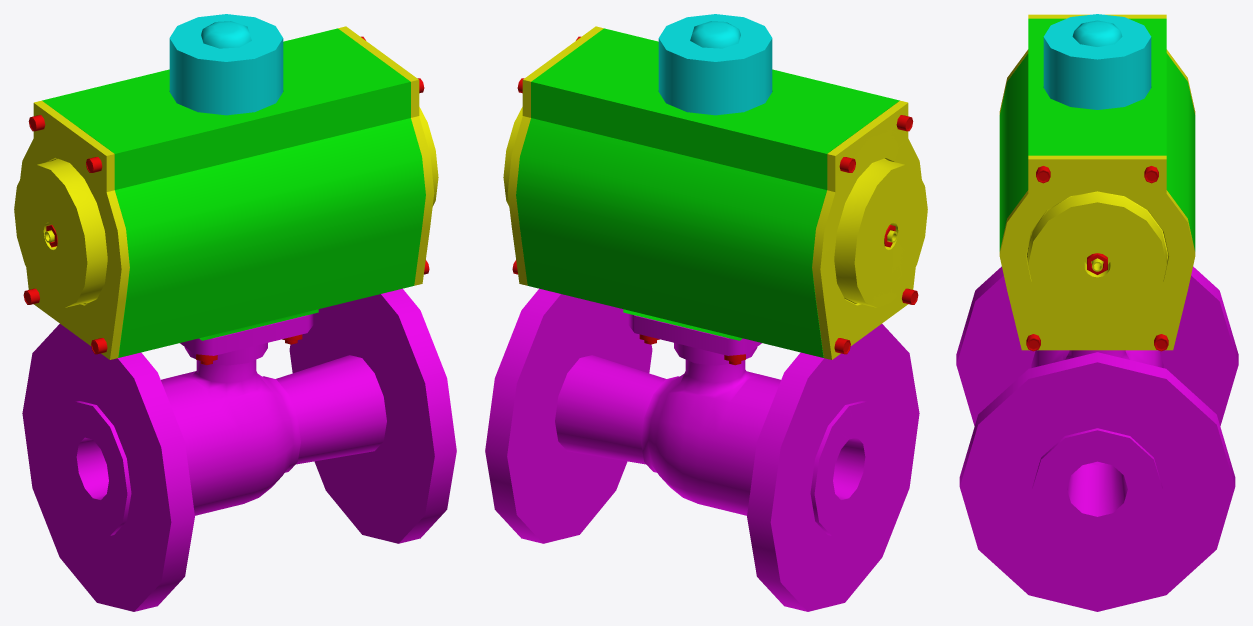
The model's file is Vtriarc.fbx.
3 renders of one model, left to right at view 1: azimuth 30°, elevation 25°; view 2: azimuth 150°, elevation 25°; view 3: azimuth 270°, elevation 25°, orthographic. The views are drawn at different scales.
Parts seen in each view (by area): view 1: V_Tiarc_upperBody_low; view 2: V_Tiarc_upperBody_low; view 3: V_Tiarc_upperBody_low.
Boxes of the visible parts, x1,y1,x2,y2 form: V_Tiarc_upperBody_low: (14, 14, 456, 611); V_Tiarc_upperBody_low: (485, 14, 927, 611); V_Tiarc_upperBody_low: (956, 14, 1238, 611).
Size of the model in its own units: 72.04 by 105 by 51.93.
